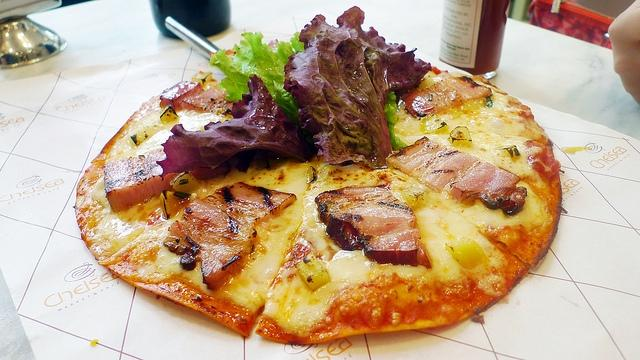lettuce: (283, 6, 432, 170), (209, 30, 409, 150), (157, 73, 316, 181)
pineapple: (295, 250, 331, 291), (444, 237, 488, 270), (158, 190, 190, 220), (130, 124, 164, 146), (410, 70, 442, 92), (420, 114, 449, 134), (447, 126, 473, 148), (172, 174, 202, 193), (401, 187, 426, 208), (494, 145, 522, 162), (160, 104, 178, 124), (192, 72, 212, 88), (305, 166, 317, 183)
